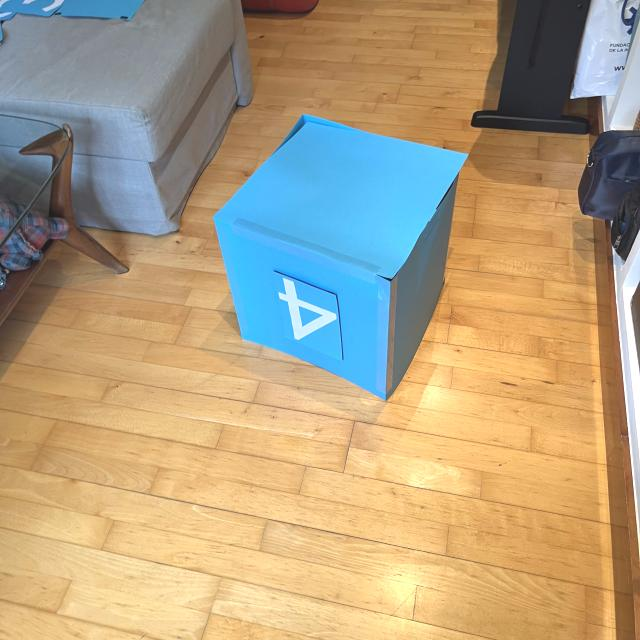box: (209, 110, 470, 402)
